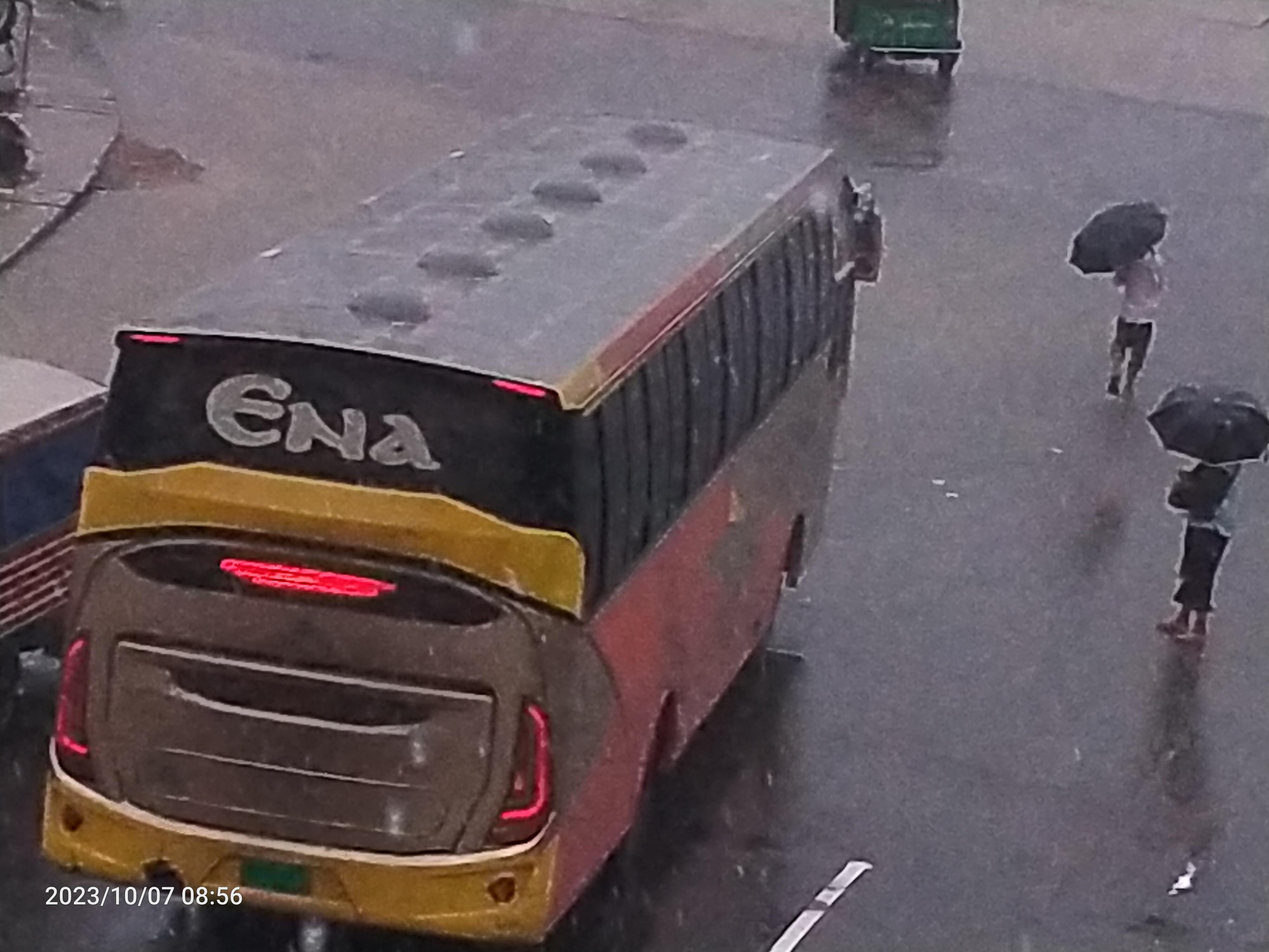Bus: (0, 87, 950, 952)
Car: (0, 343, 153, 674)
